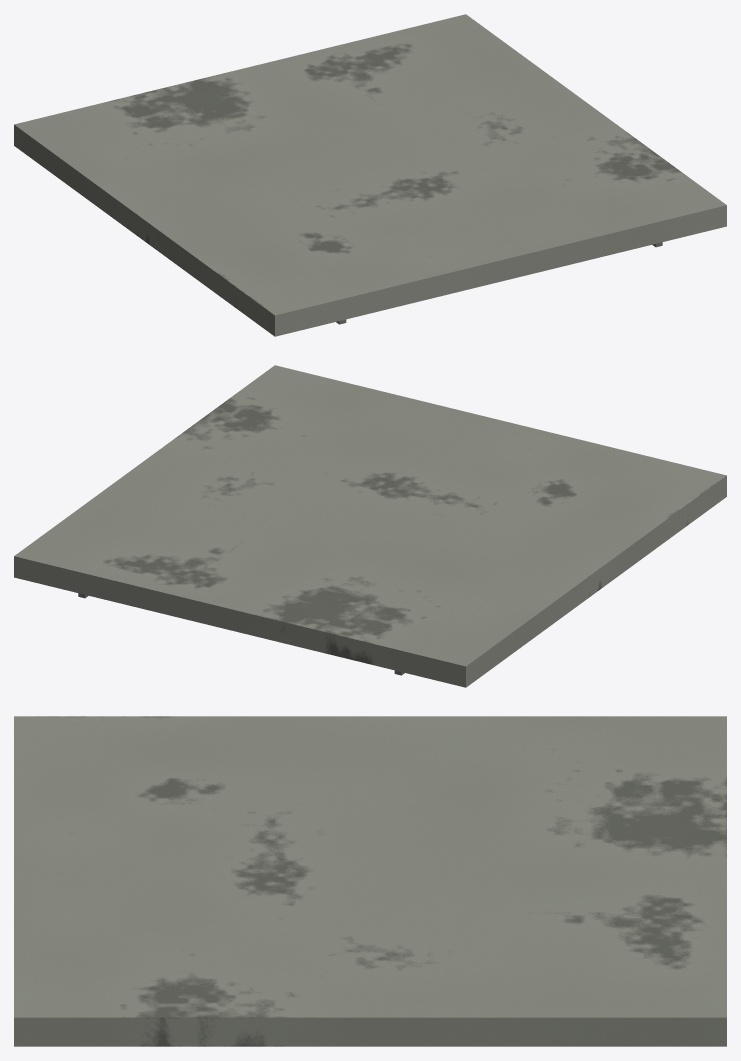
File: ceiling_4m.glb
3 renders of one model, top to bottom at view 1: azimuth 30°, elevation 25°; view 2: azimuth 150°, elevation 25°; view 3: azimuth 270°, elevation 25°, orthographic. The views are drawn at different scales.
Parts seen in each view (by area): view 1: ceiling_4m; view 2: ceiling_4m; view 3: ceiling_4m.
Part boxes in pixels (x1,y1,x2,y2): ceiling_4m: (14,14,726,336); ceiling_4m: (14,365,726,687); ceiling_4m: (14,716,726,1046).
Size of what is drawn, in the model's own units: 4 by 0.21 by 4.
1 material, 1 textured.
